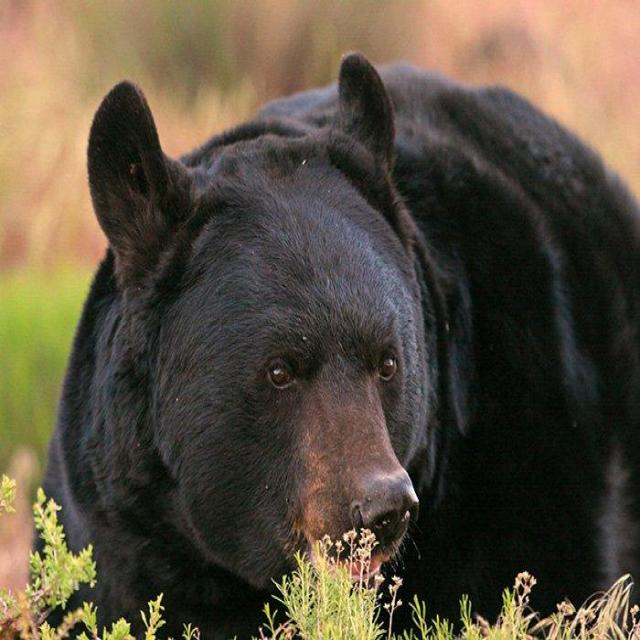Bear: (42, 54, 640, 640)
